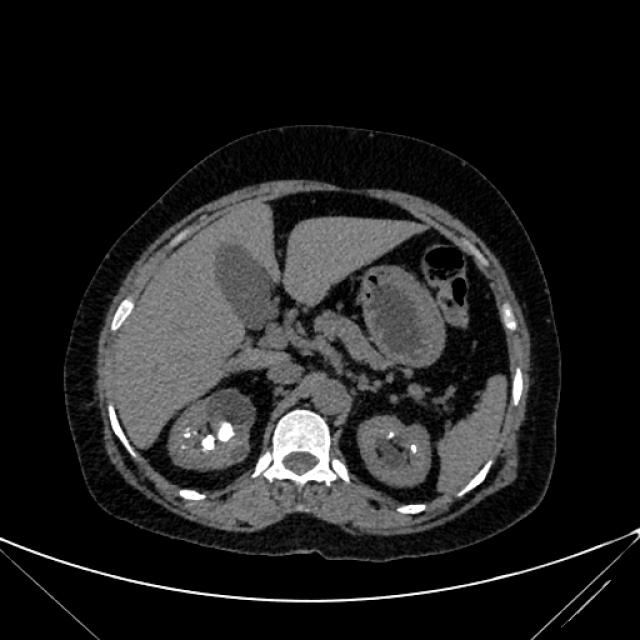kidney: (175, 396, 248, 462), (363, 420, 428, 481)
stone: (222, 424, 230, 439), (204, 437, 213, 449), (411, 444, 416, 452), (184, 433, 190, 438), (389, 432, 393, 437)
